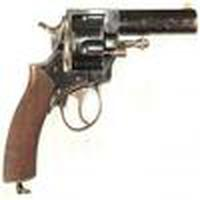gun: (1, 9, 200, 171)
